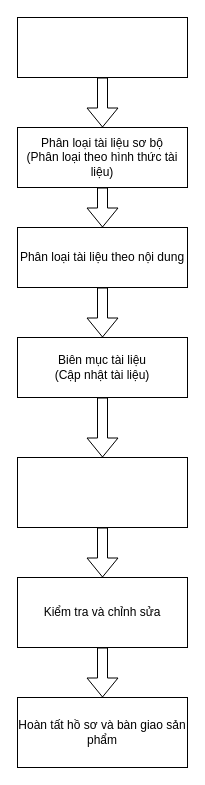
Image size: 205x785. Some labels were removed from this diagram. The shapes that lost their labels are listed below. From the top down, each one's box as (x1, y1, x2, y2) in pixels, then its label:
(16, 16, 188, 78): Tiếp nhận tài liệu
(16, 456, 188, 528): In mã vạch, cắt gián nhãn cho tài liệu
